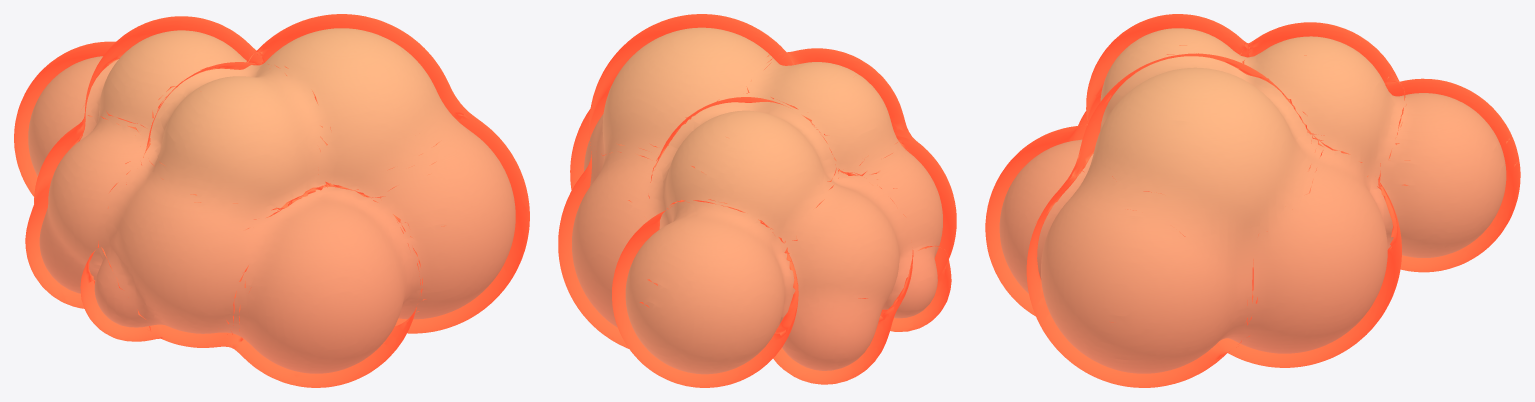
The model's file is cloud_small.glb.
The picture shows the model from 3 angles, left to right: view 1: azimuth 30°, elevation 25°; view 2: azimuth 150°, elevation 25°; view 3: azimuth 270°, elevation 25°; orthographic projection. The views are drawn at different scales.
Visible parts, largest first — view 1: cloud_small; view 2: cloud_small; view 3: cloud_small.
Boxes of the visible parts, x1,y1,x2,y2 form: cloud_small: (14,14,529,387); cloud_small: (558,14,956,387); cloud_small: (985,14,1520,387).
Size of the model in its own units: 0.5792 by 0.4128 by 0.6709.
2 materials, 1 textured.
